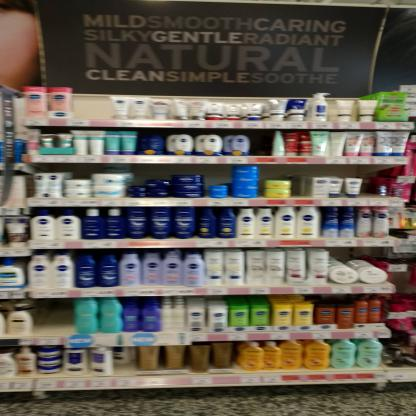Void: (35, 302, 70, 338), (72, 92, 115, 117), (333, 248, 377, 264), (366, 163, 382, 195), (202, 166, 229, 184), (253, 132, 271, 155), (72, 166, 90, 178)
